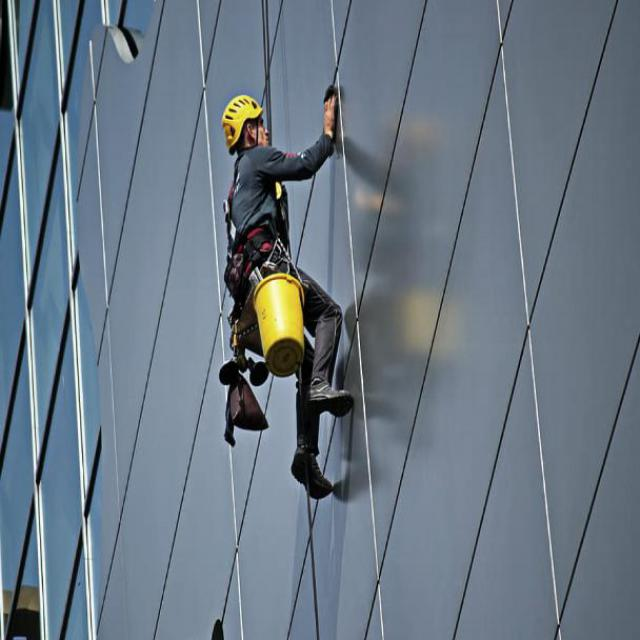helmet: (215, 76, 268, 167)
